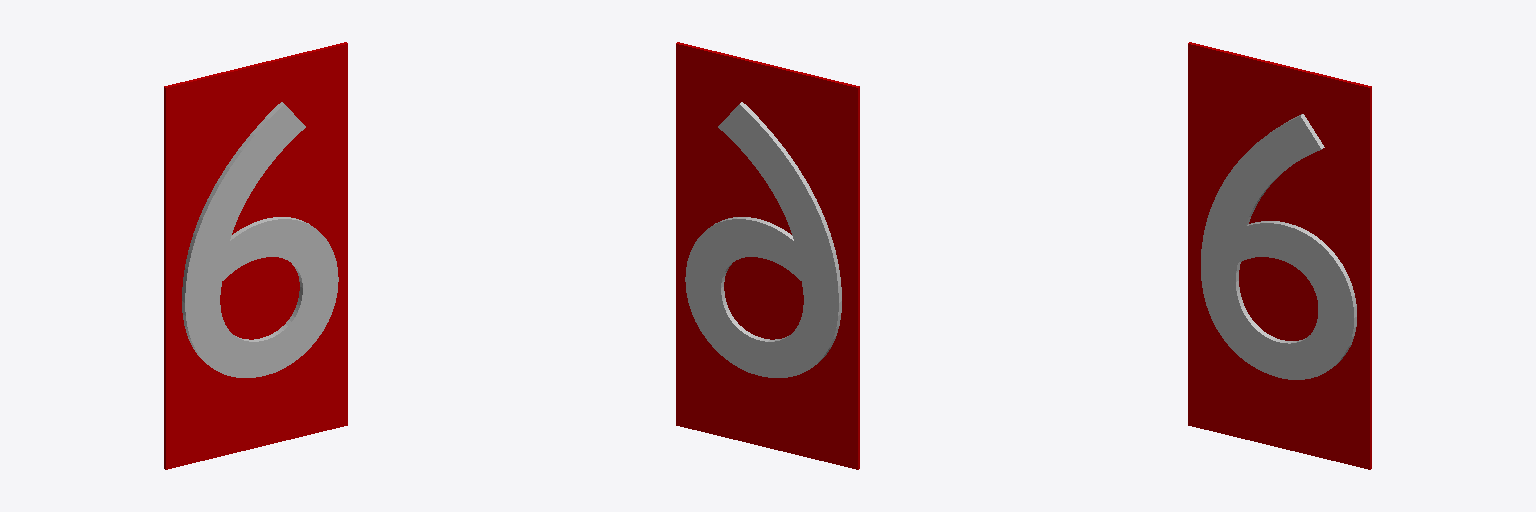
Rendered from room6.obj.
3 renders of one model, left to right at view 1: azimuth 30°, elevation 25°; view 2: azimuth 150°, elevation 25°; view 3: azimuth 330°, elevation 25°, orthographic.
Visible parts, largest first — view 1: Cube, Text; view 2: Cube, Text; view 3: Cube, Text.
Boxes of the visible parts, x1,y1,x2,y2 form: Cube: [164, 42, 347, 469]; Text: [182, 102, 338, 377]; Cube: [676, 42, 859, 469]; Text: [685, 102, 841, 377]; Cube: [1188, 42, 1371, 469]; Text: [1201, 114, 1356, 379].
Size of the model in its own units: 1 by 2 by 0.08.